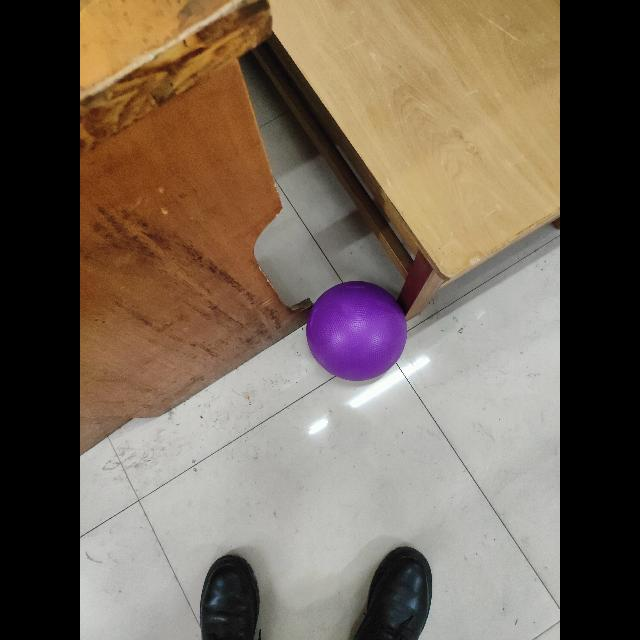P: (306, 276, 406, 379)
